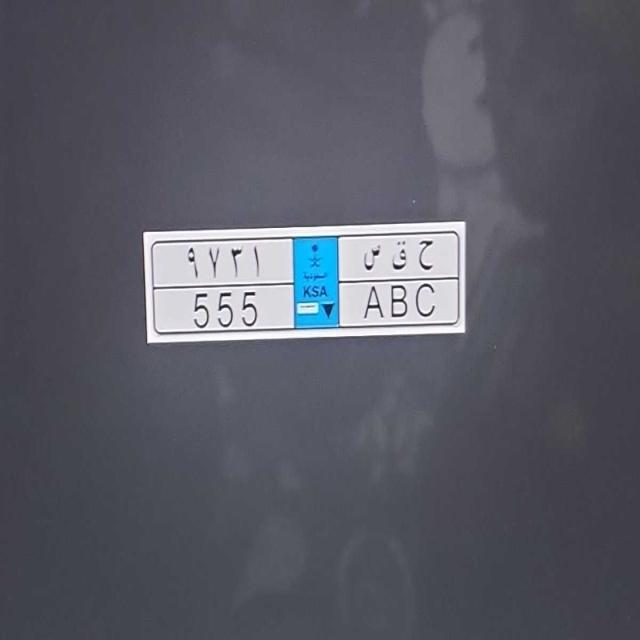license_plate: (150, 282, 456, 330)
